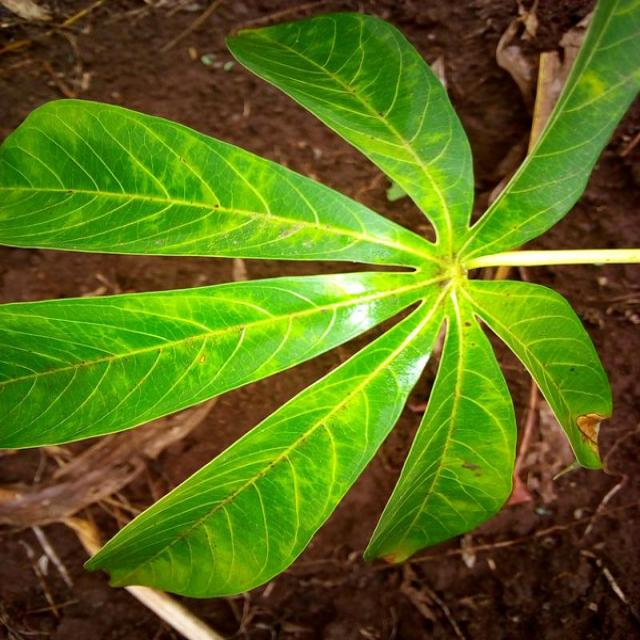cassava leaf: (0, 1, 638, 601), (82, 287, 444, 599), (0, 268, 432, 452), (0, 96, 438, 264), (223, 10, 475, 243), (362, 288, 518, 566)
